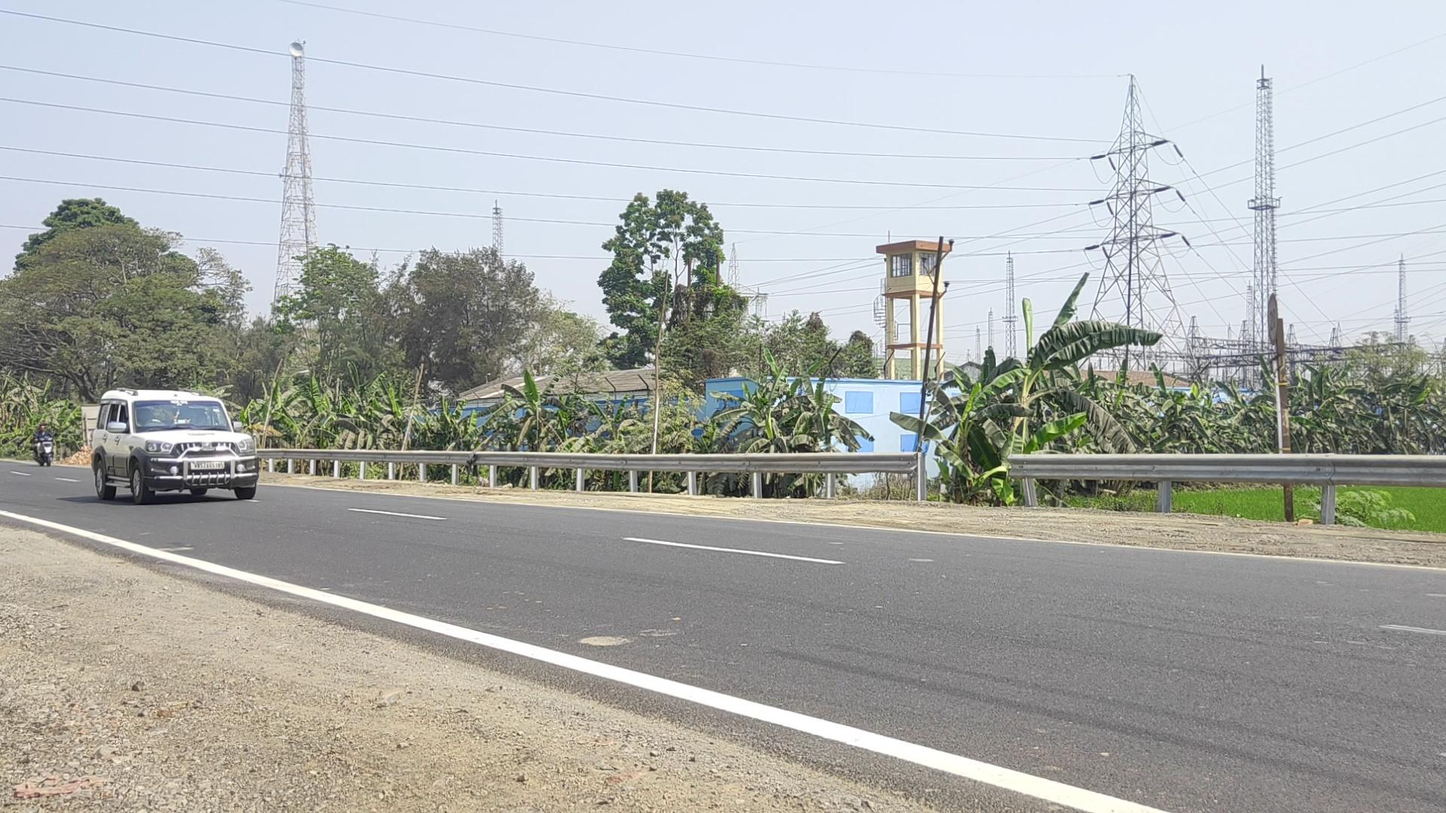bike: (31, 423, 56, 467)
car: (91, 388, 260, 505)
